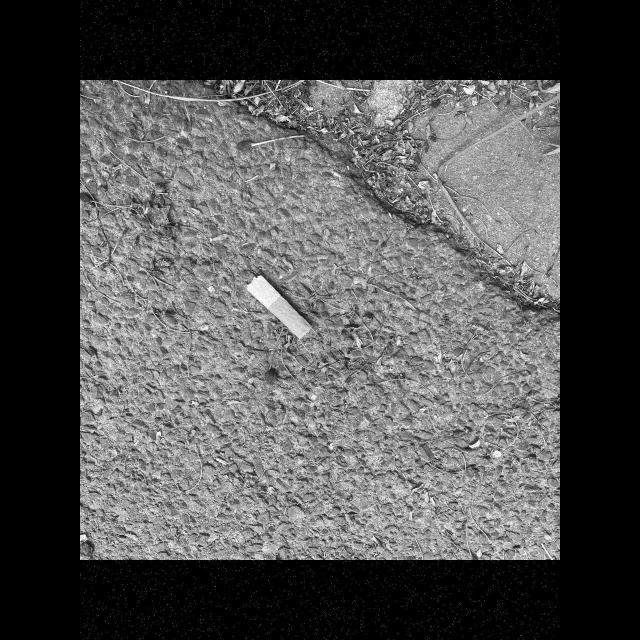cigarette: (246, 274, 312, 340)
